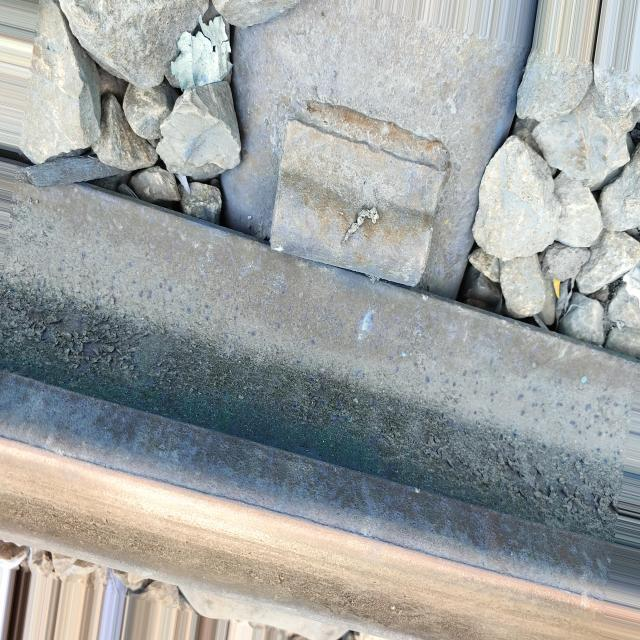Missing Fastener: (254, 77, 454, 326)
